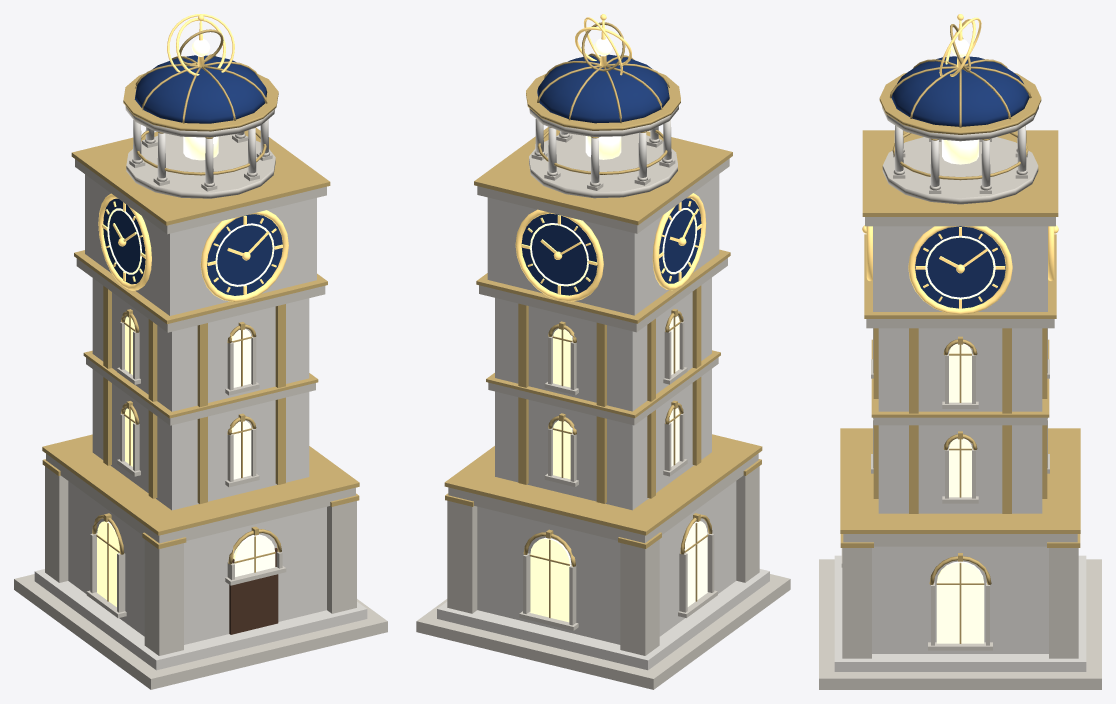
The model's file is kronos_clocktower.glb.
The picture shows the model from 3 angles, left to right: view 1: azimuth 30°, elevation 25°; view 2: azimuth 150°, elevation 25°; view 3: azimuth 270°, elevation 25°; orthographic projection. The views are drawn at different scales.
Visible parts, largest first — view 1: KronosClocktower; view 2: KronosClocktower; view 3: KronosClocktower.
Part boxes in pixels (box(x1,y1,x2,y2)): KronosClocktower: box(14, 14, 387, 689); KronosClocktower: box(416, 14, 790, 689); KronosClocktower: box(819, 14, 1101, 689).
Size of the model in its own units: 10 by 24.04 by 10.
